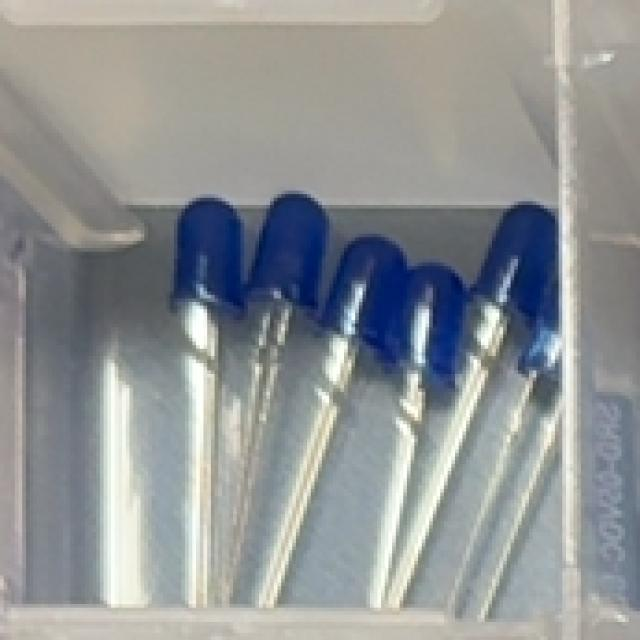BLUE_LED: (410, 204, 564, 639), (272, 239, 405, 640), (457, 289, 570, 640), (243, 192, 328, 617), (374, 259, 466, 640), (163, 198, 240, 640)
